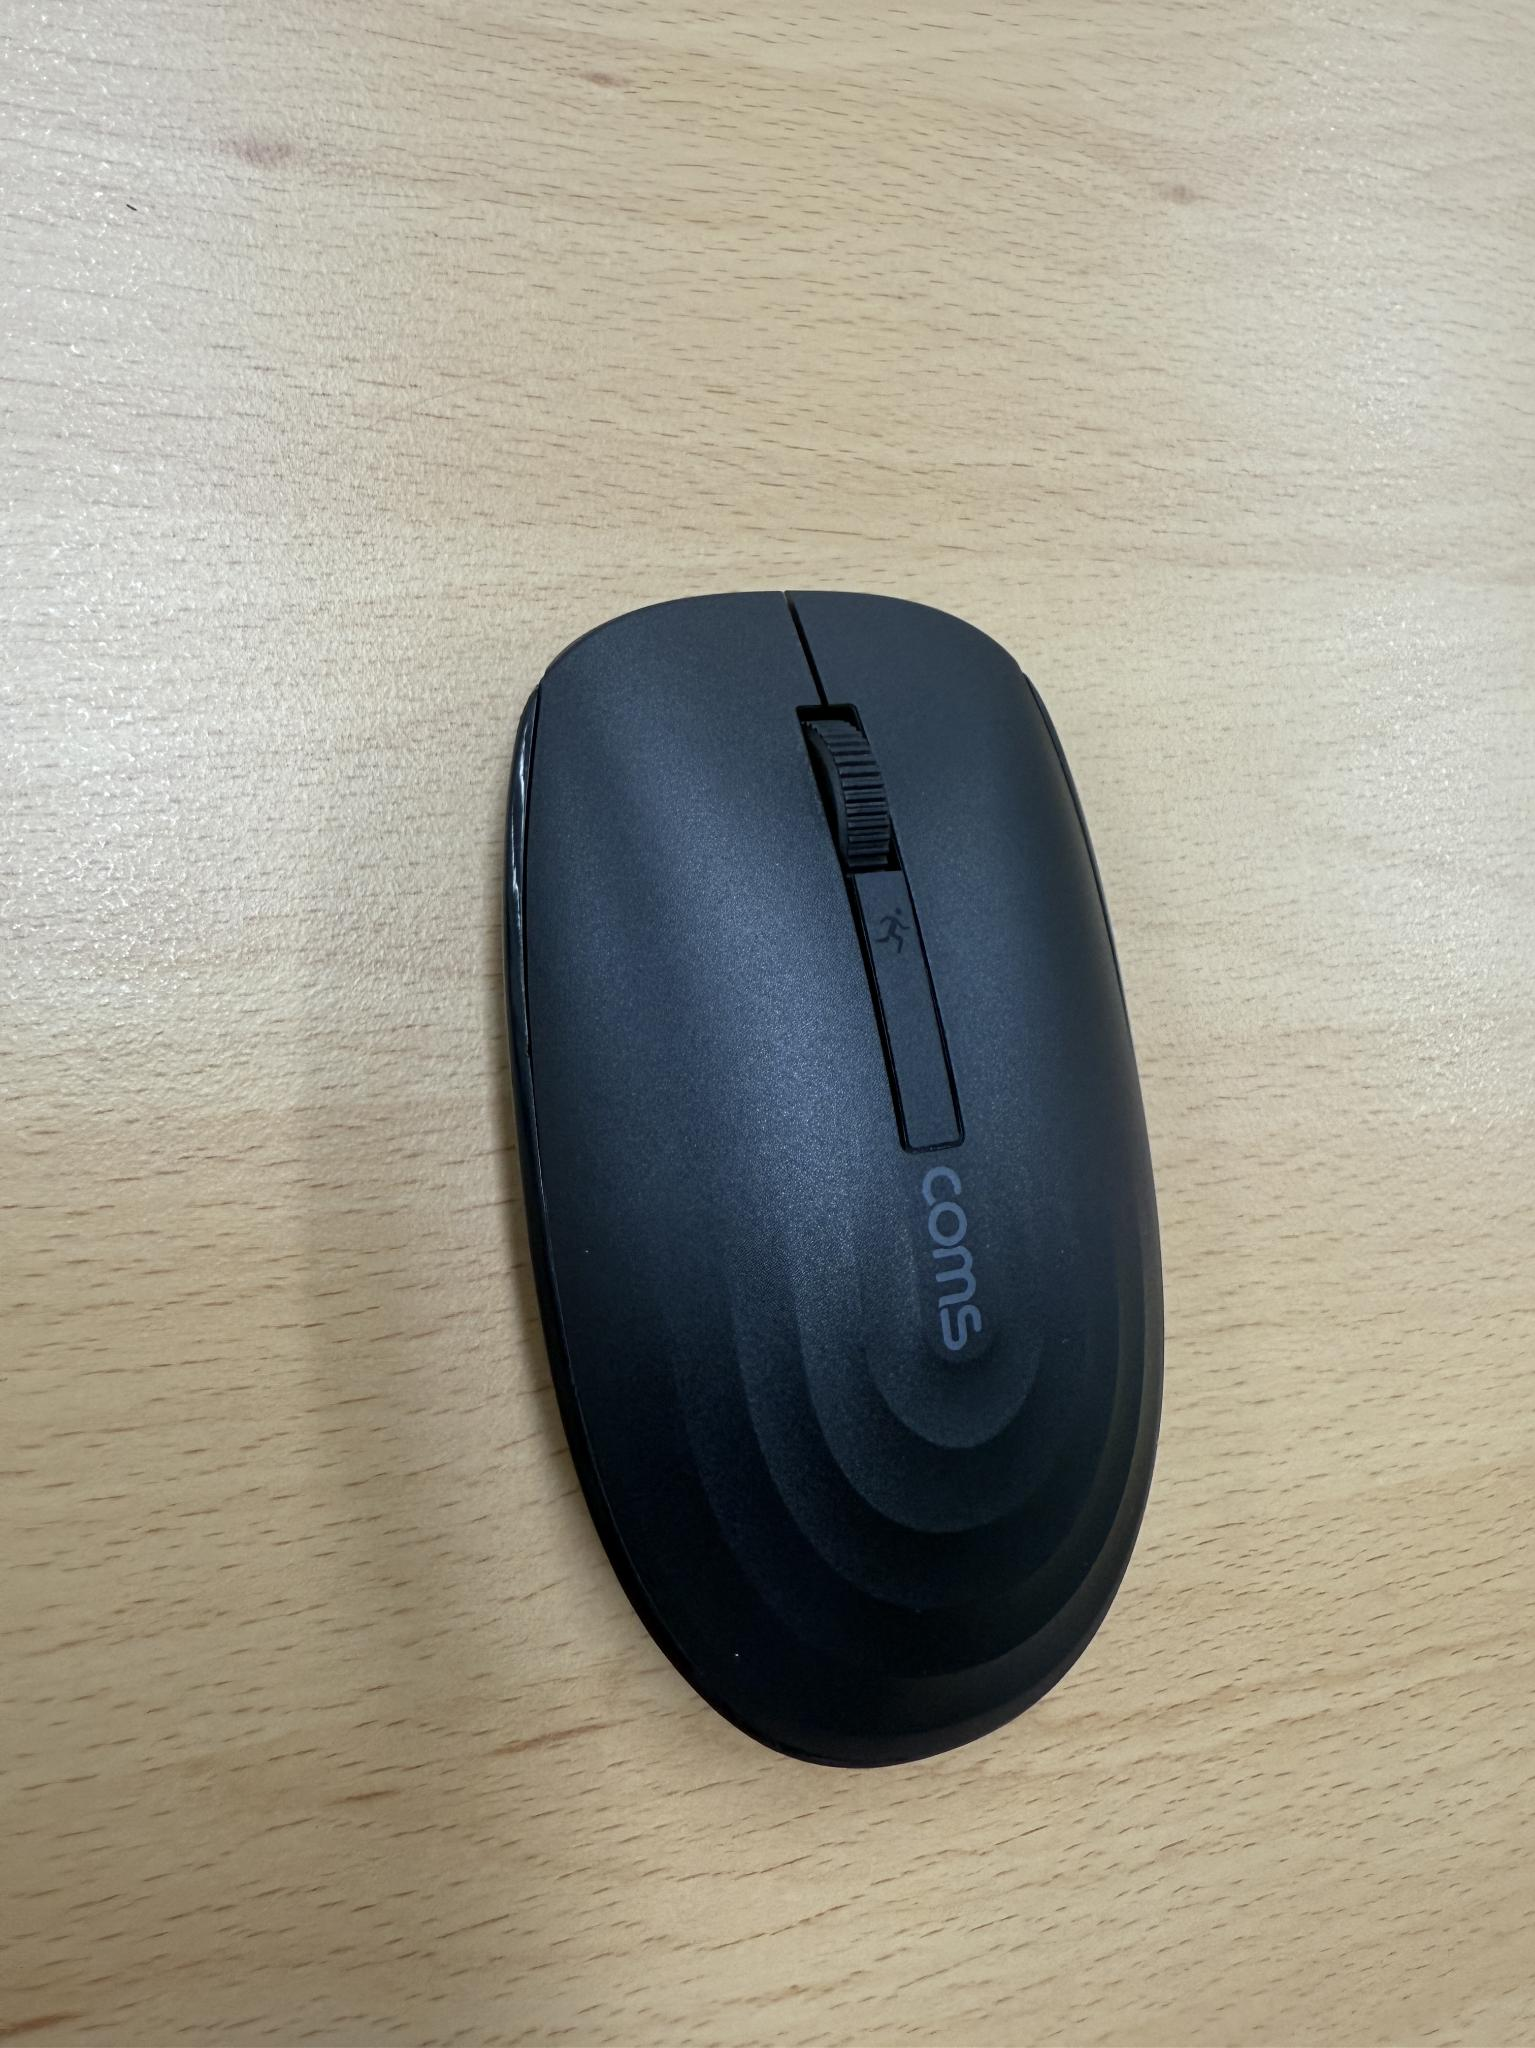front: (495, 582, 1171, 1771)
